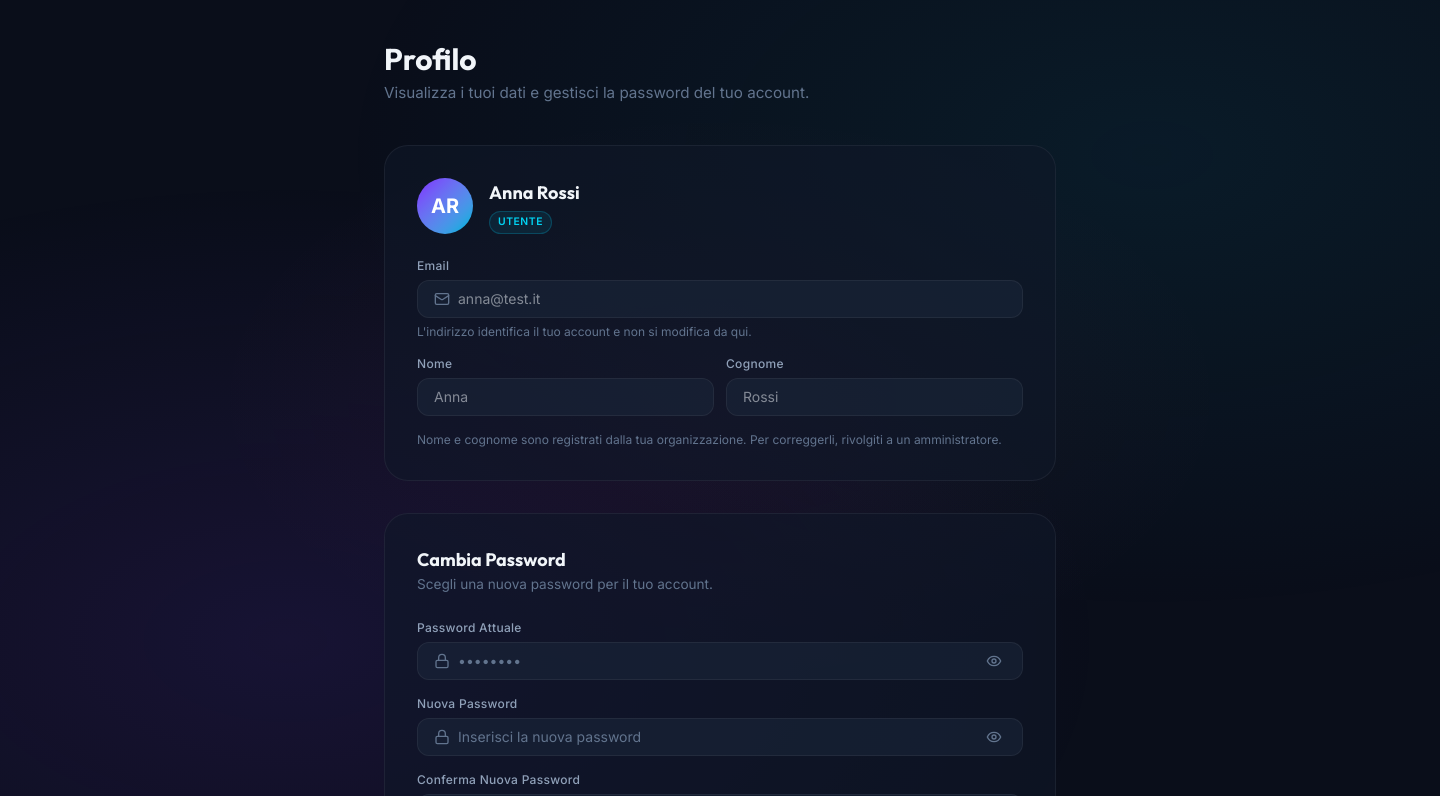
cambio password › mostra l esito che ha scritto il server
Type "Vecchia-1!" into the password field labelled "Password Attuale" at point(716, 661), box [458,643,974,679]
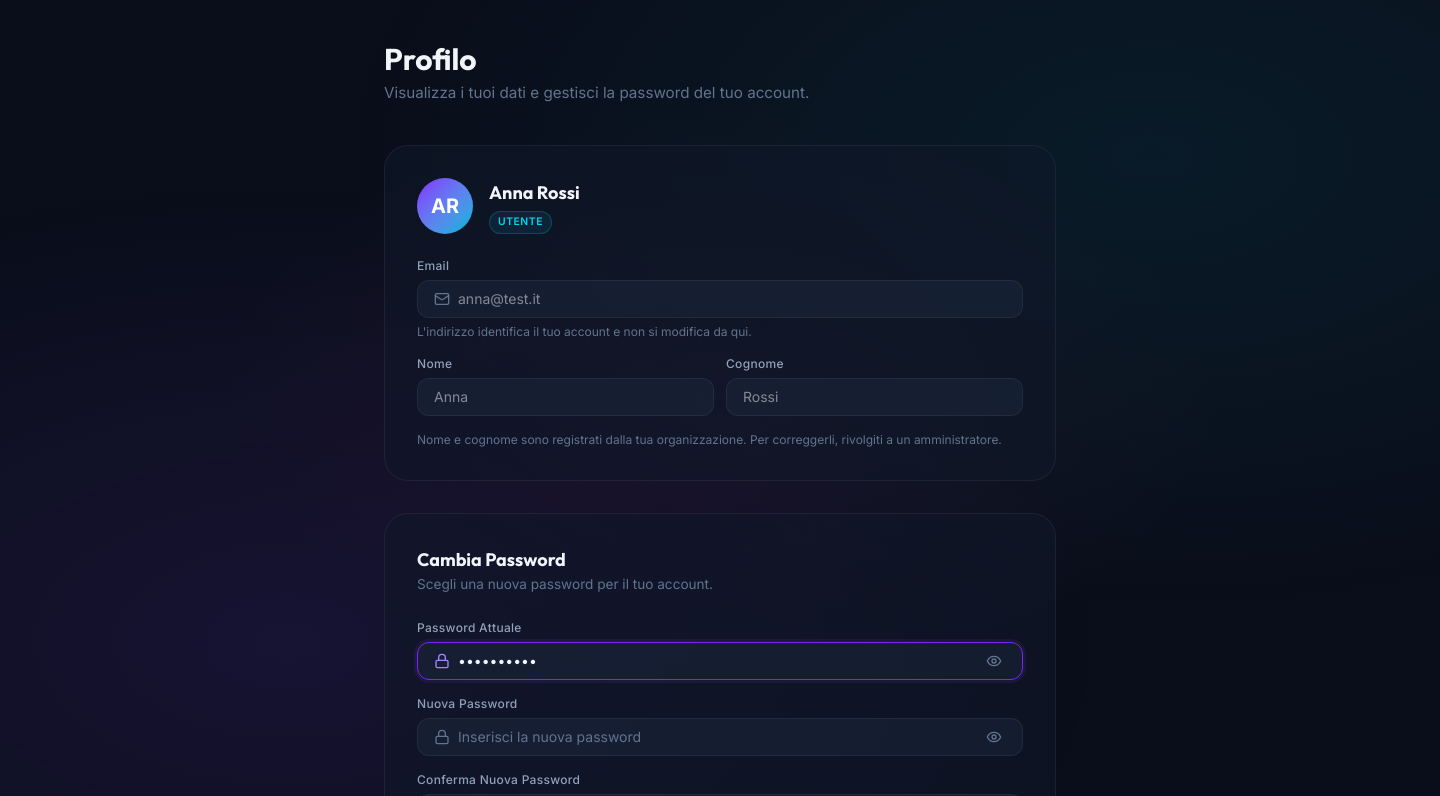
Type "Nuova-Lunga1!" into the password field labelled "Nuova Password" at point(716, 737), box [458,719,974,755]
(page scrolled)
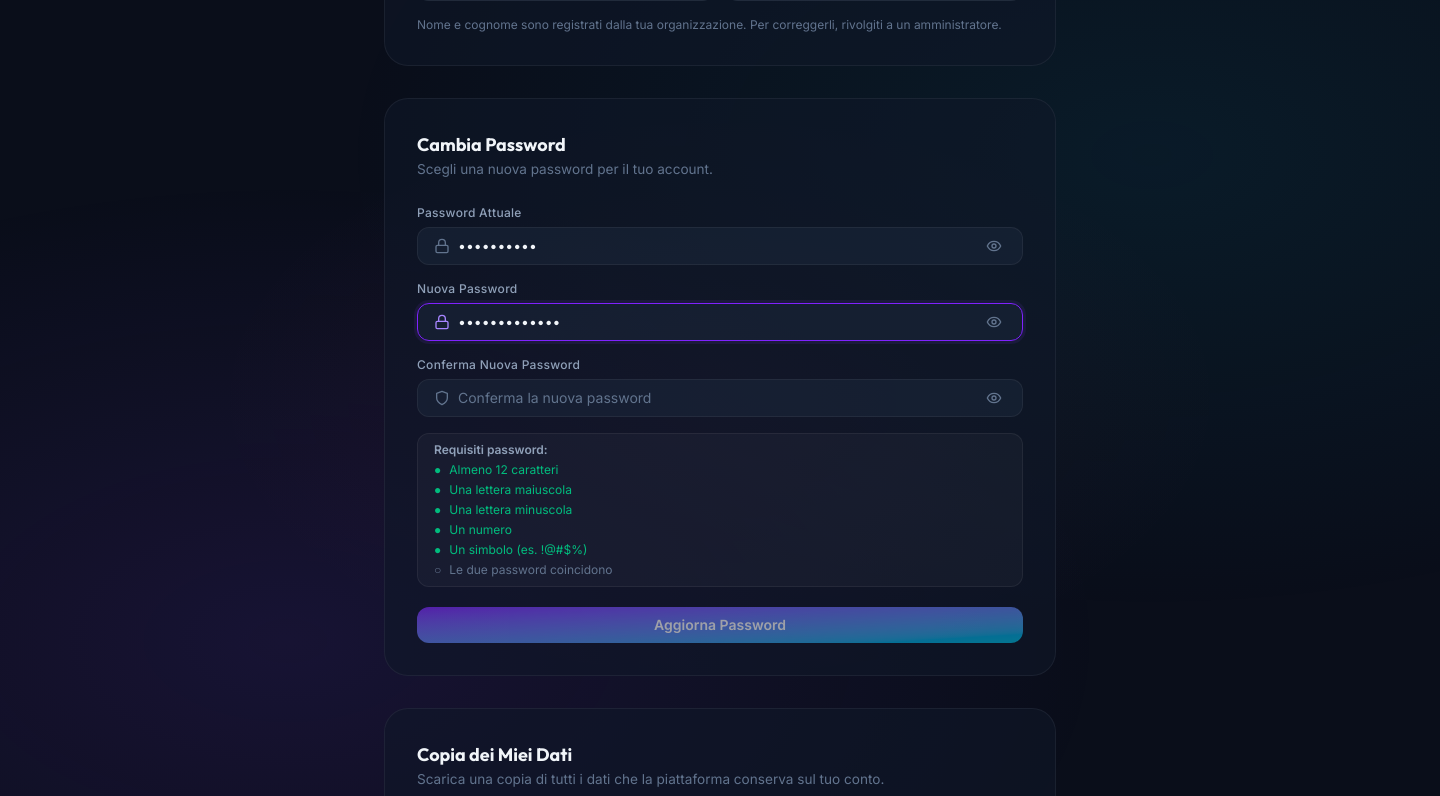
Type "Nuova-Lunga1!" into the password field labelled "Conferma Nuova Password" at point(716, 398), box [458,380,974,416]
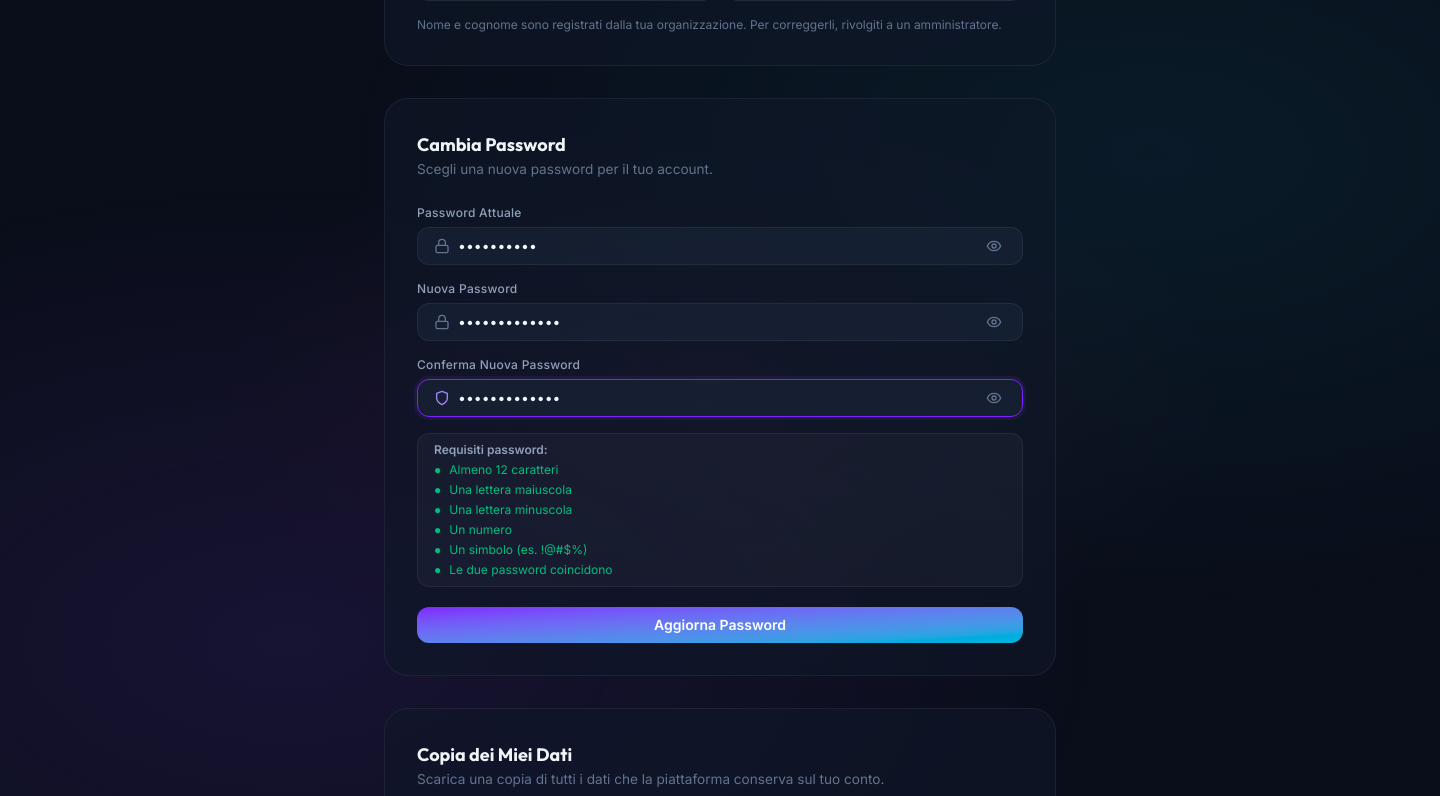
Click the button "Aggiorna Password" at point(720, 625), box [417,607,1023,643]
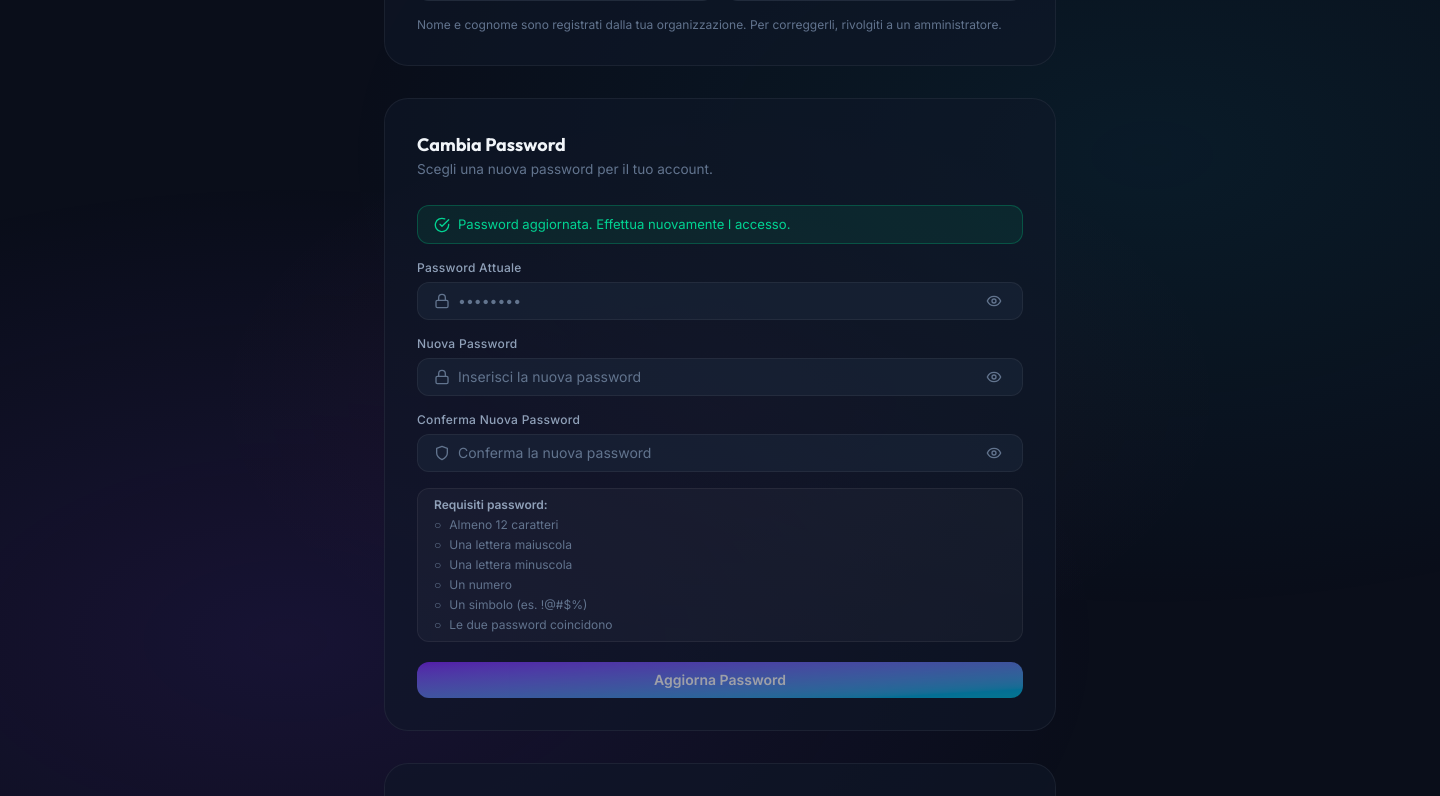
Check: the text "Password aggiornata. Effettua nuovamente l accesso." is shown, box [458,214,790,235]
